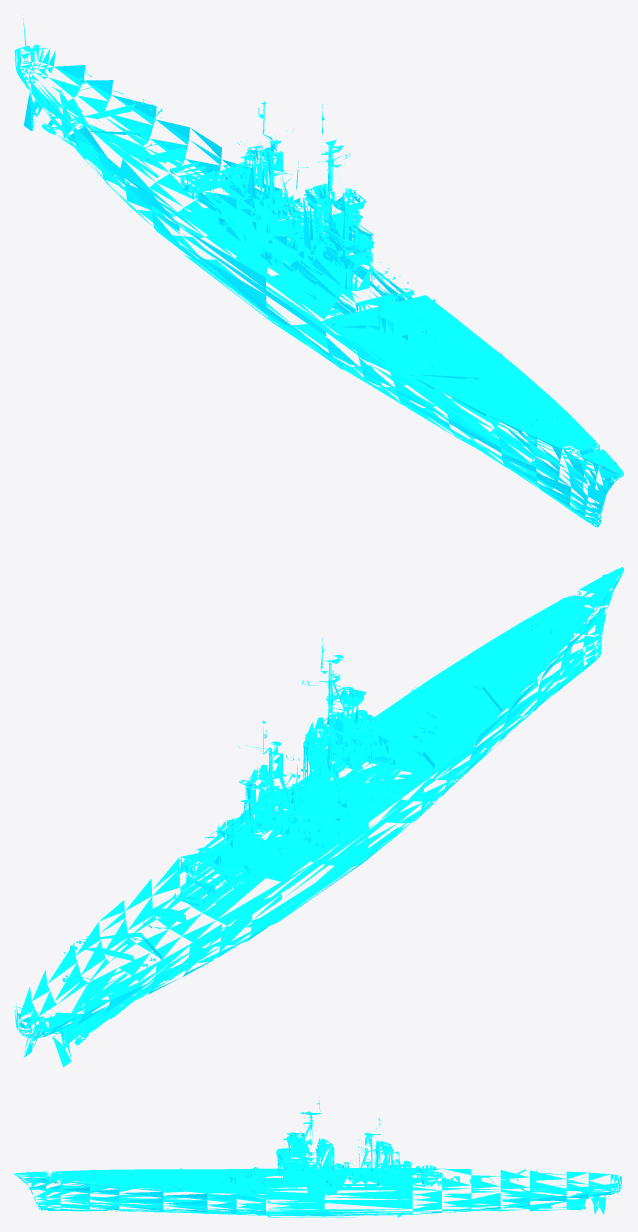
File: Petrozavodsk.glb
The picture shows the model from 3 angles, top to bottom: view 1: azimuth 30°, elevation 25°; view 2: azimuth 150°, elevation 25°; view 3: azimuth 270°, elevation 25°; orthographic projection. The views are drawn at different scales.
Size of the model in its own units: 1.58 by 3.22 by 15.6.
